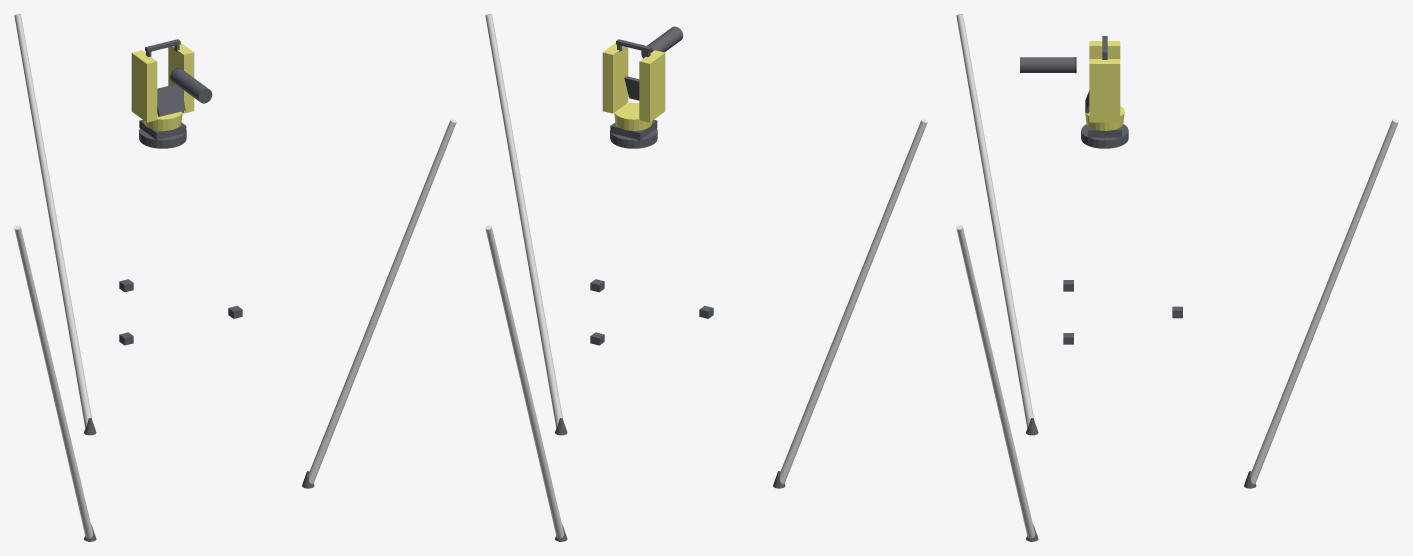
Rendered from TST-LEI-TS07-2-R500.glb.
3 views of the same model, side by side, from view 1: azimuth 30°, elevation 25°; view 2: azimuth 150°, elevation 25°; view 3: azimuth 270°, elevation 25° (orthographic).
Visible parts, largest first — view 1: TST-LEI-TS07-2-R500; view 2: TST-LEI-TS07-2-R500; view 3: TST-LEI-TS07-2-R500.
Boxes of the visible parts, left/top/right/bottom form: TST-LEI-TS07-2-R500: left=14, top=14, right=456, bottom=541; TST-LEI-TS07-2-R500: left=485, top=14, right=927, bottom=541; TST-LEI-TS07-2-R500: left=956, top=14, right=1398, bottom=541.
Size of the model in its own units: 1.93 by 1.85 by 1.67.
